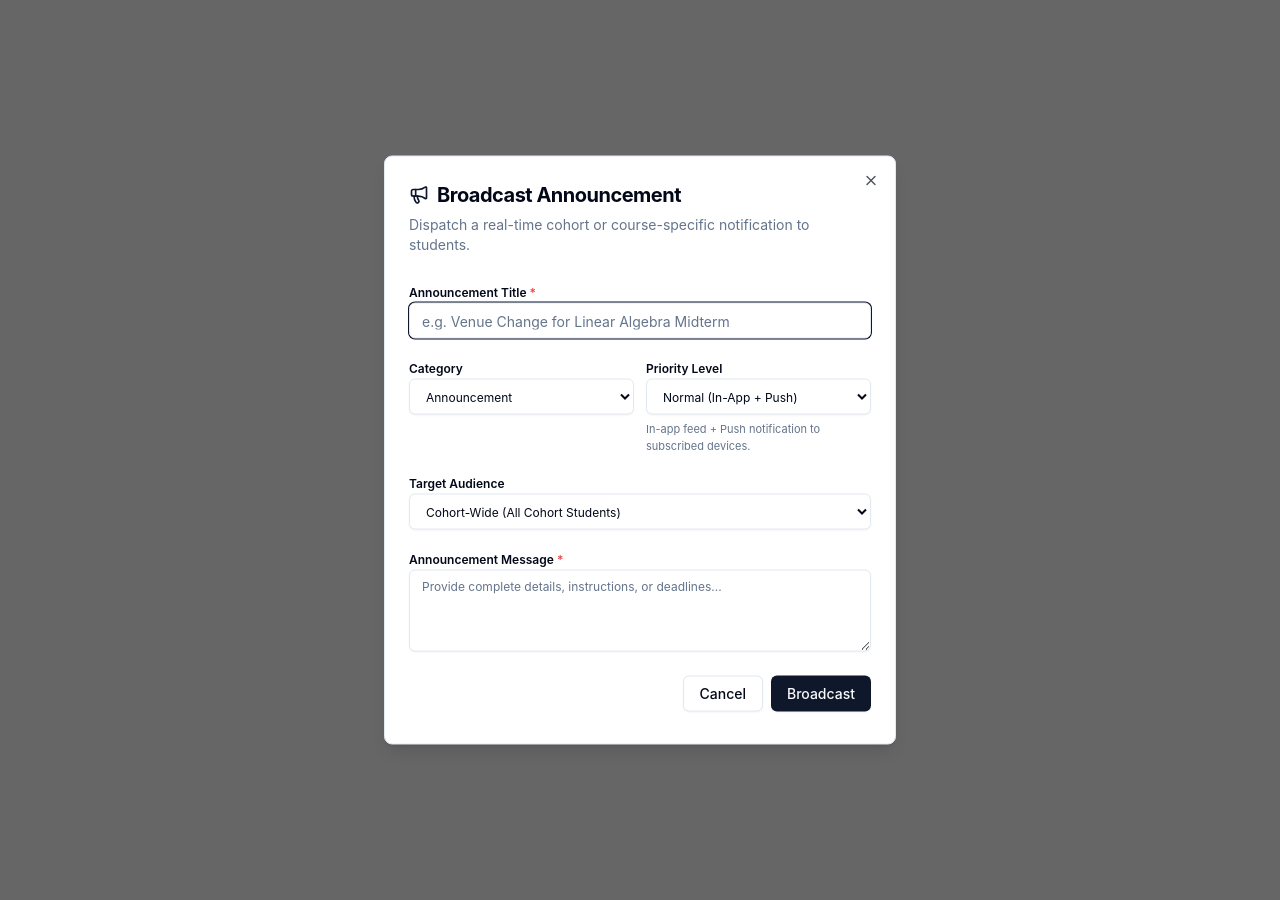
Test case: Notification Dialogs & Components › CreateAnnouncementDialog › renders form inputs and displays urgent alert banner when priority is urgent
Check: the field labelled "Announcement Title *" is shown, box [409, 302, 871, 338]
Select "Urgent Alert (In-App + Push + SMS)" in the dropdown labelled "Priority Level" at (758, 396), box [646, 378, 871, 414]
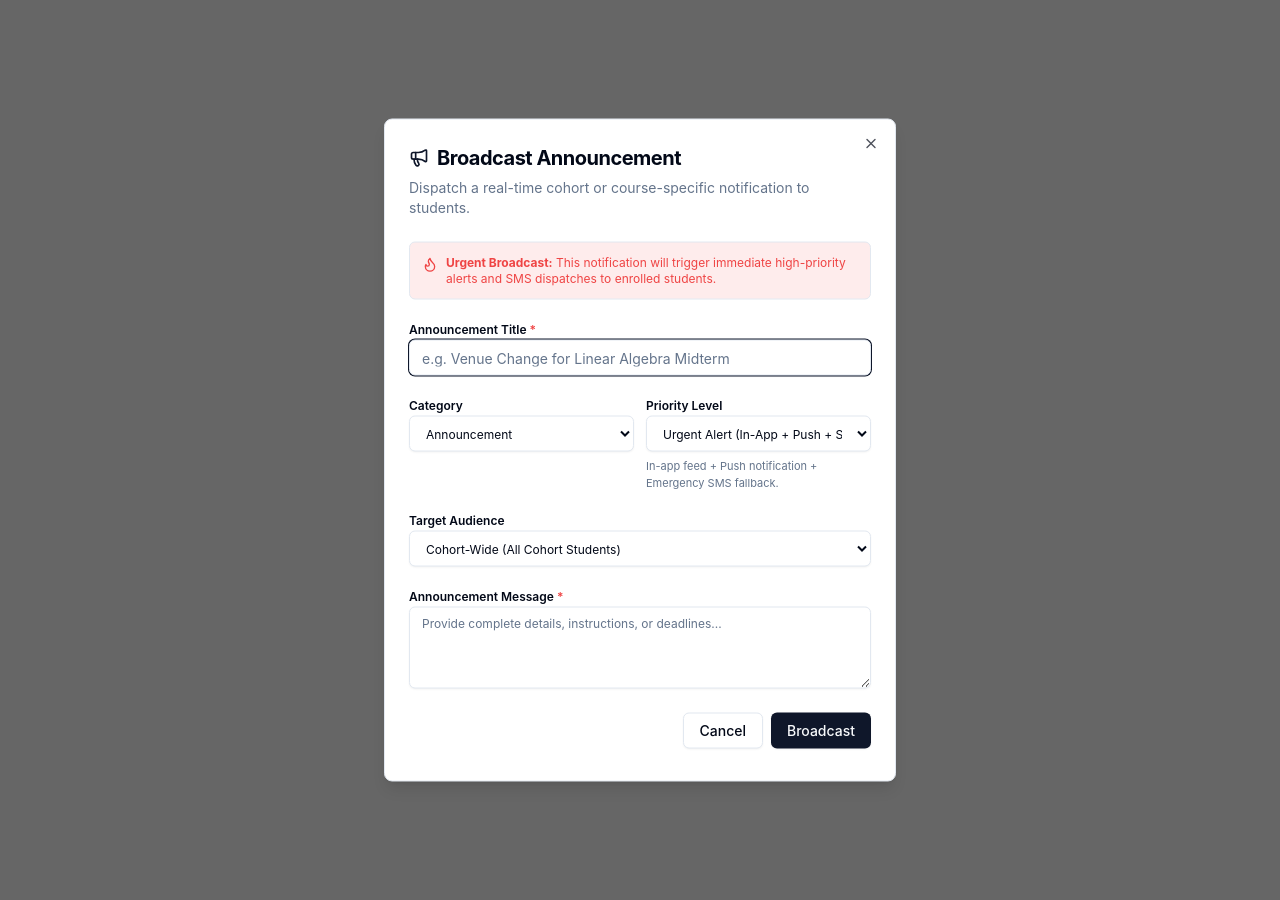
Check: the text "Urgent Broadcast:" is shown, box [446, 254, 553, 270]
